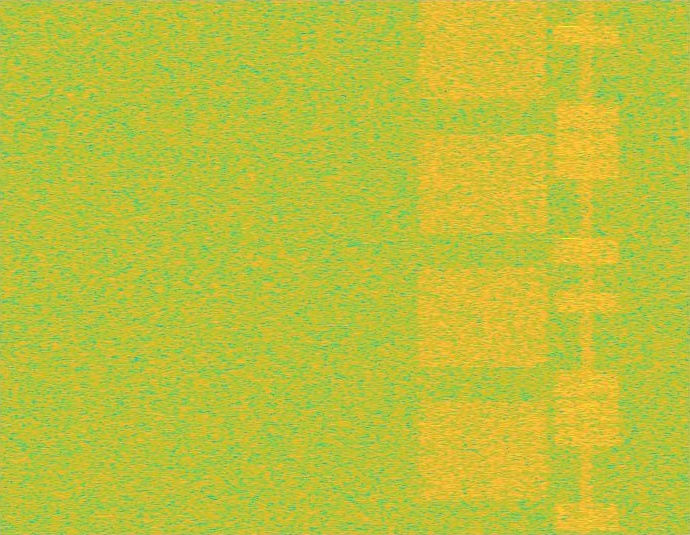5G: (414, 0, 552, 534)
DSSS: (579, 0, 594, 534)
LTE: (552, 0, 621, 534)
Radar: (563, 0, 576, 534)
